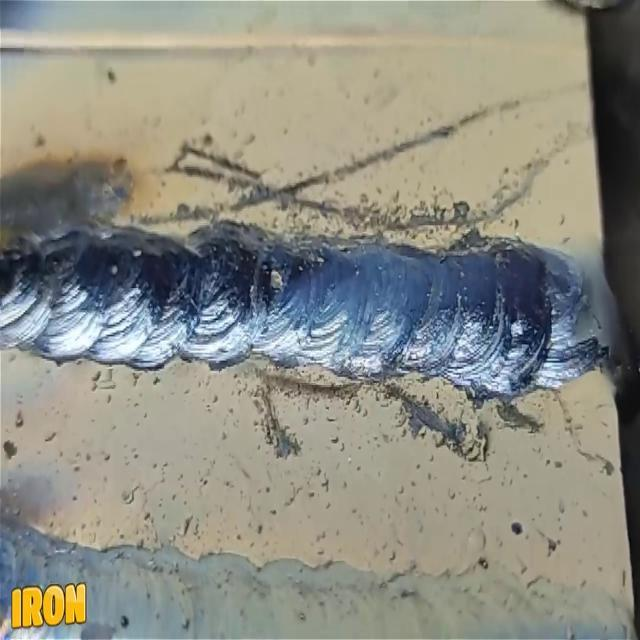Good Weld: (66, 238, 494, 376)
